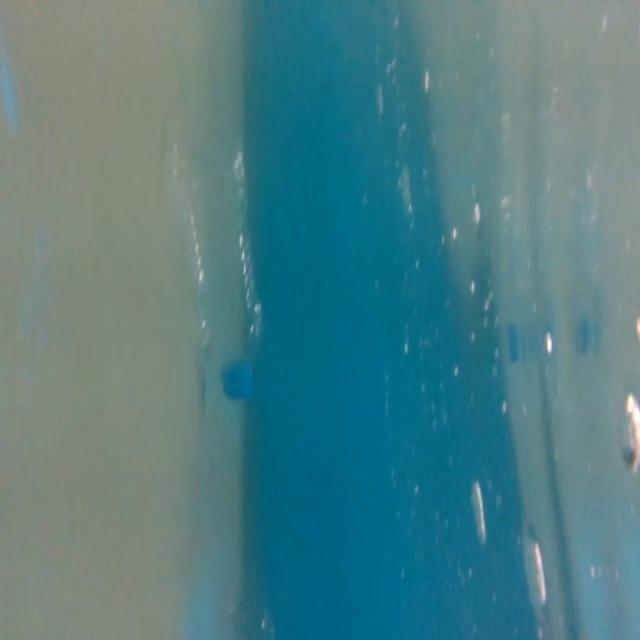plastic bottle: (156, 124, 273, 408)
